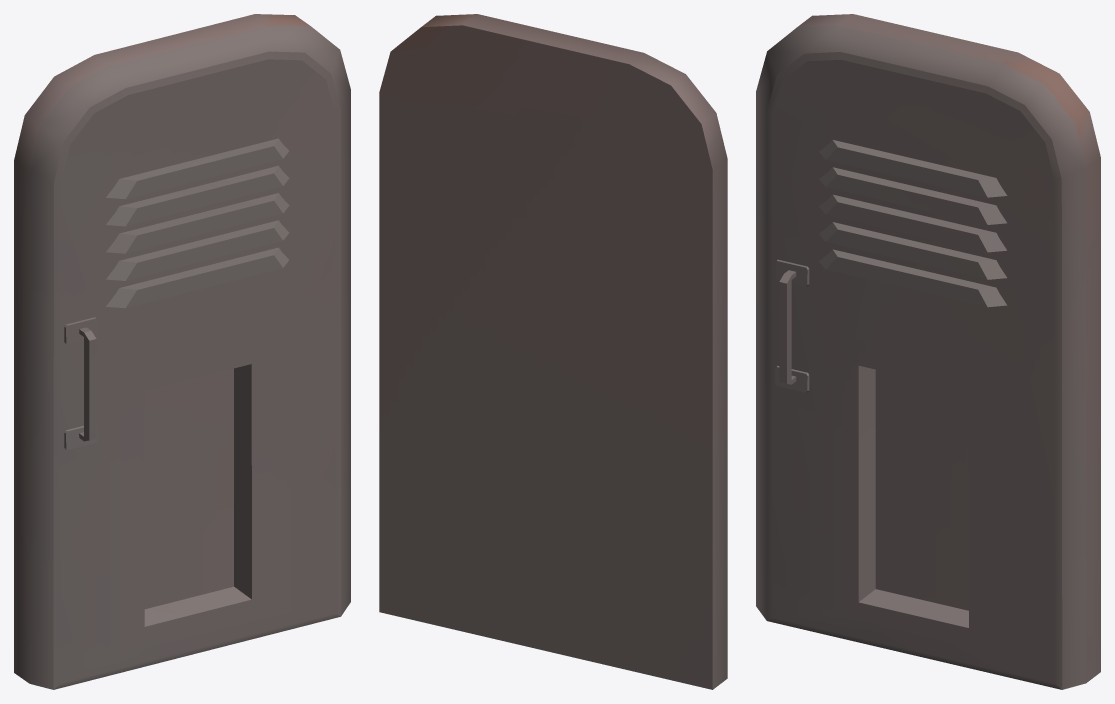
The picture shows the model from 3 angles, left to right: view 1: azimuth 30°, elevation 25°; view 2: azimuth 150°, elevation 25°; view 3: azimuth 330°, elevation 25°; orthographic projection.
Visible parts, largest first — view 1: SM_H2_D; view 2: SM_H2_D; view 3: SM_H2_D.
Boxes of the visible parts, left/top/right/bottom form: SM_H2_D: left=14, top=14, right=350, bottom=689; SM_H2_D: left=379, top=14, right=727, bottom=689; SM_H2_D: left=756, top=14, right=1100, bottom=689.
Size of the model in its own units: 140 by 27.5 by 248.
